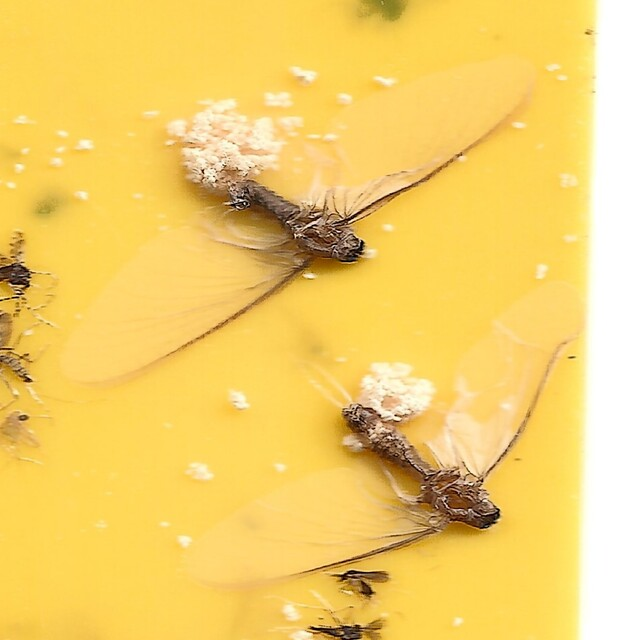Ephemeroptera: (68, 56, 540, 388), (202, 327, 572, 584)
